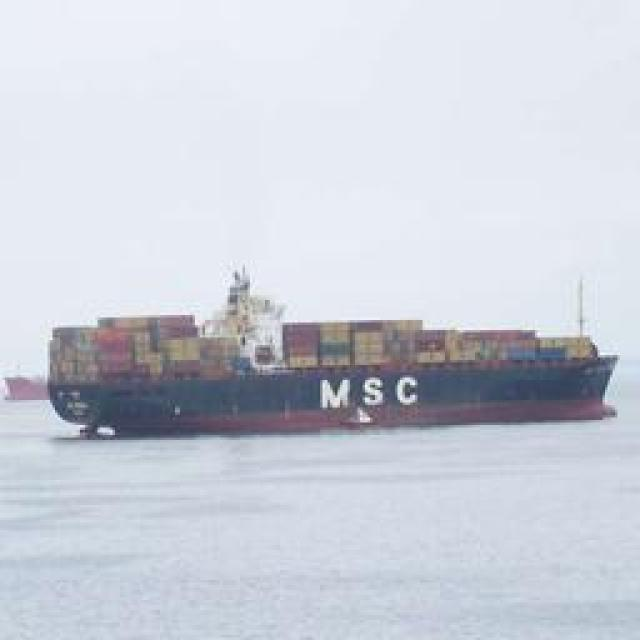Ship: (33, 282, 618, 432)
